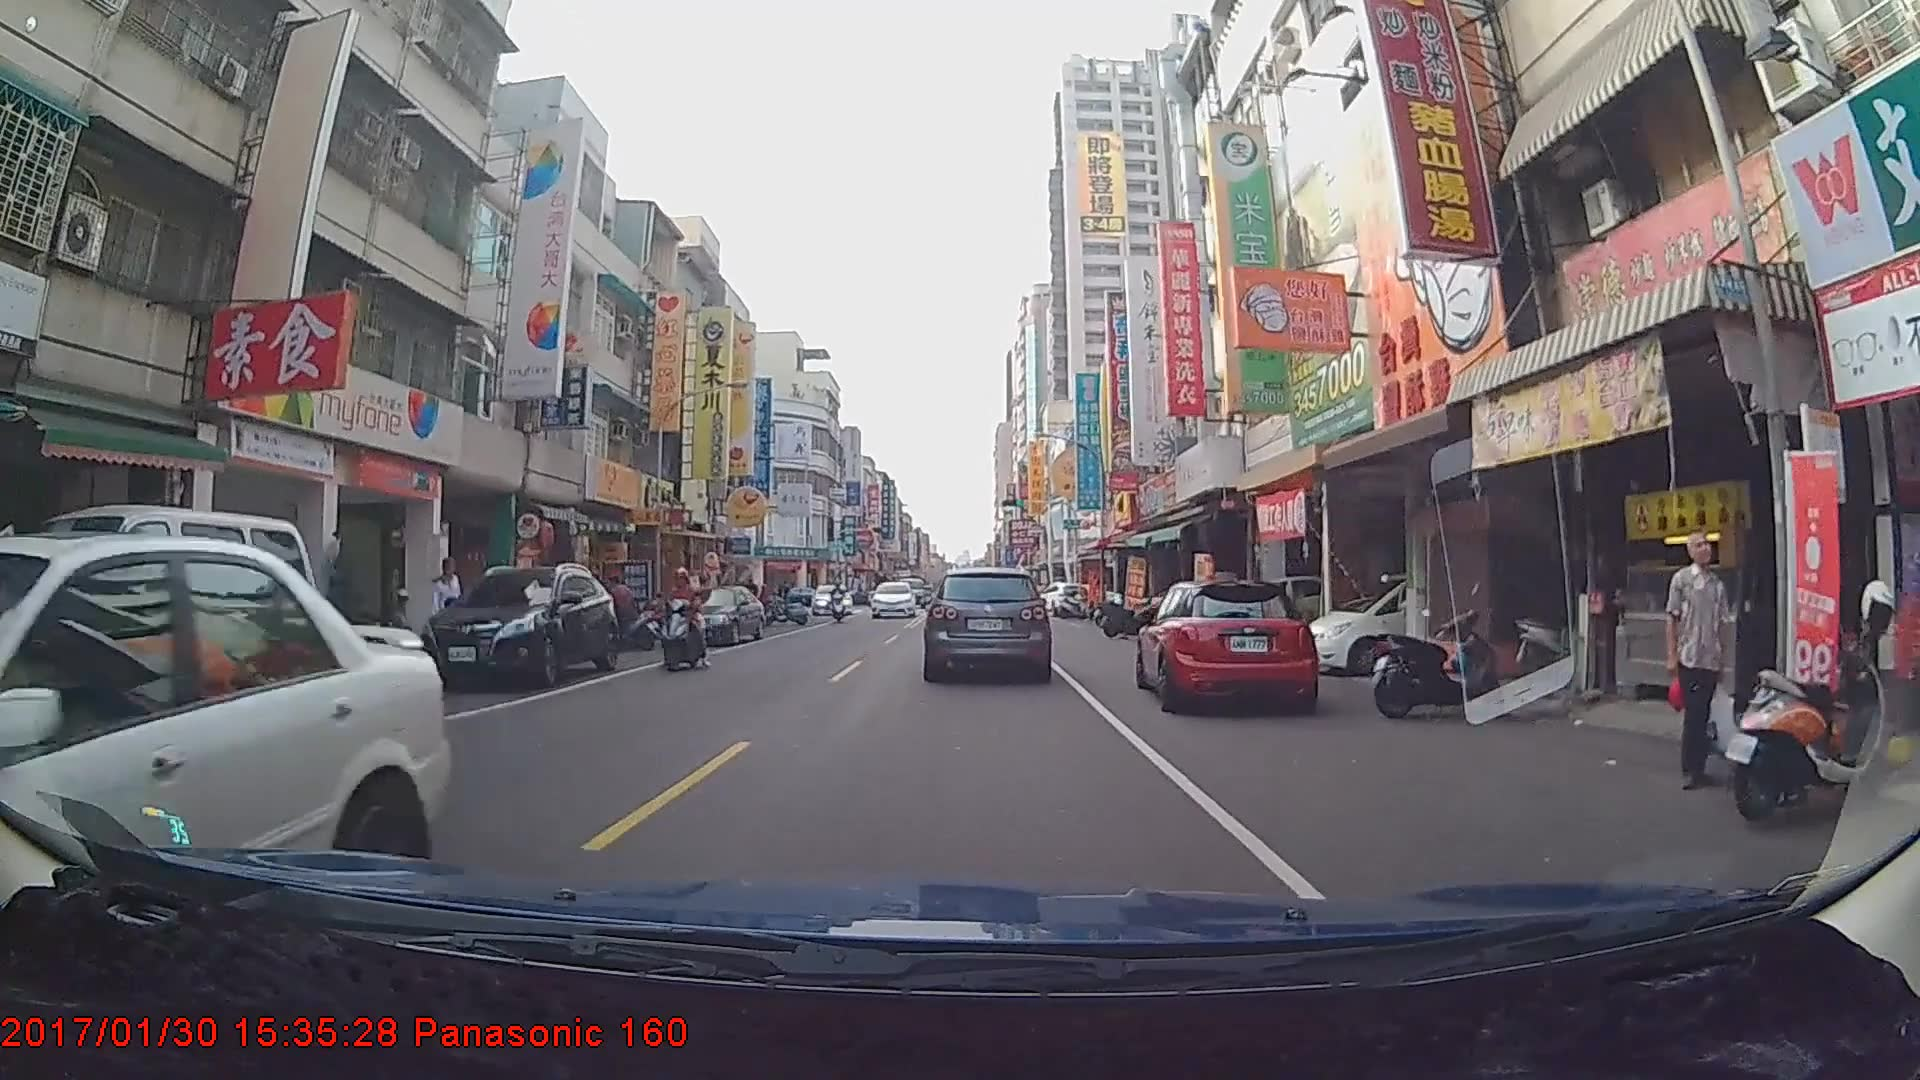pedestrian: (1666, 529, 1733, 796), (426, 559, 464, 670)
rider: (659, 571, 710, 674)
vehicle: (0, 534, 445, 1016), (1137, 575, 1319, 713), (423, 563, 618, 689), (926, 564, 1049, 679), (660, 584, 765, 646), (1034, 581, 1087, 617), (867, 580, 915, 619), (810, 585, 851, 617)
